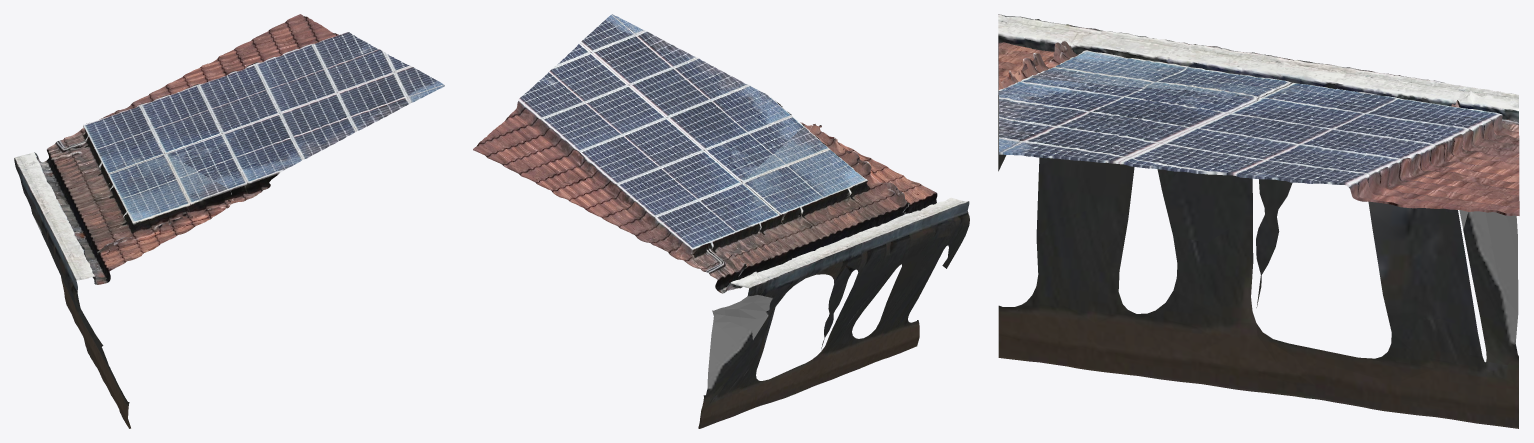
3 renders of one model, left to right at view 1: azimuth 30°, elevation 25°; view 2: azimuth 150°, elevation 25°; view 3: azimuth 270°, elevation 25°, orthographic. The views are drawn at different scales.
Parts seen in each view (by area): view 1: node_193; view 2: node_193; view 3: node_193.
Boxes of the visible parts, x1,y1,x2,y2 form: node_193: (14,14,444,428); node_193: (473,14,969,428); node_193: (998,14,1519,428).
Bounding box in the file's own units: 8.15 × 5.62 × 5.5.
1 material, 1 textured.
